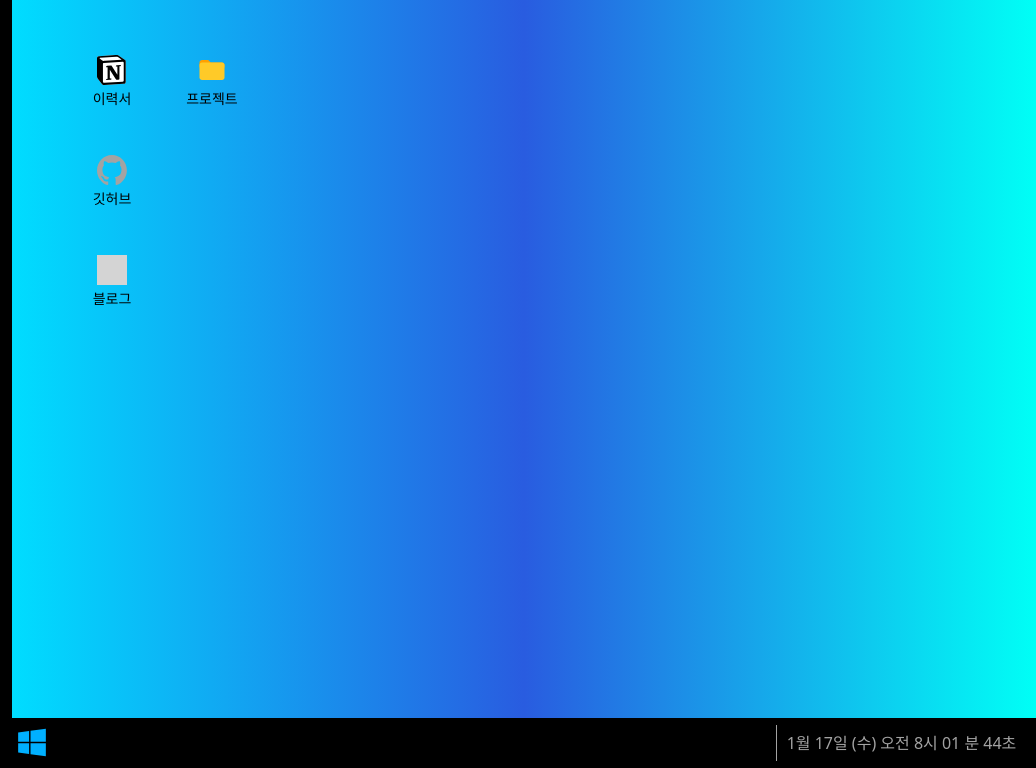
Test case: 아이콘과 관련된 테스트 › 링크가 아닌 아이콘을 더블클릭하면 창이 열린다.
This screenshot has width=1036, height=768.
Double-click the picture with alt text "프로젝트".
double_click(212, 70)  # box [197, 55, 227, 85]
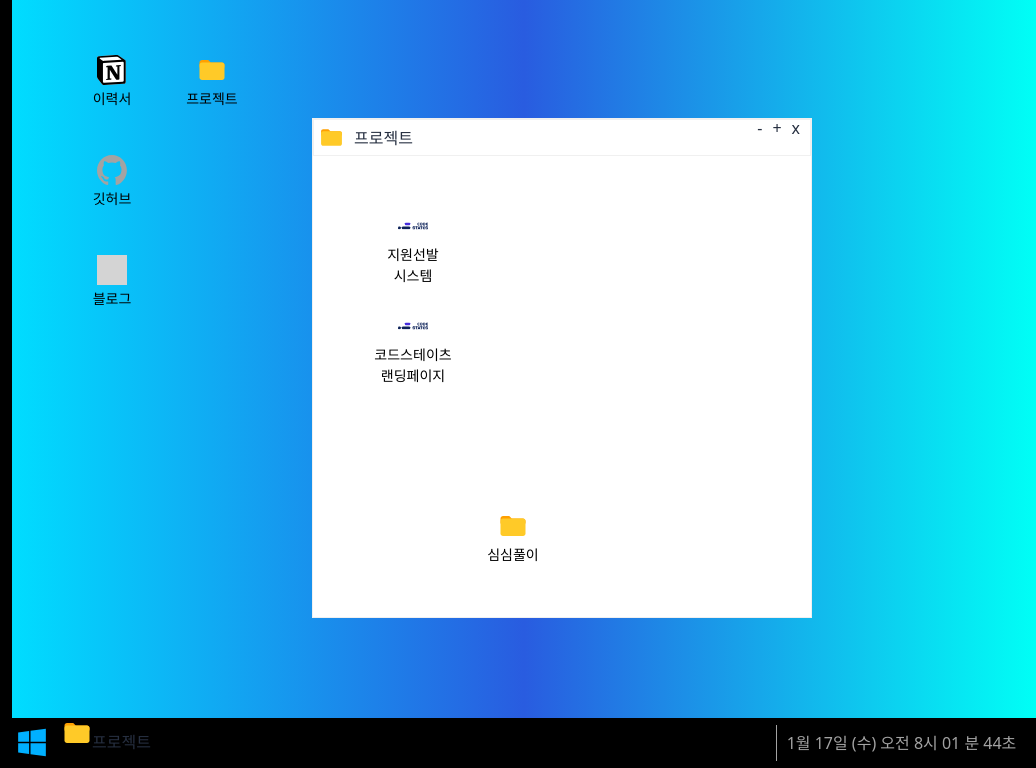
Expected: the number of pictures with alt text "프로젝트" is 3, [197, 55, 227, 85]; [319, 125, 344, 150]; [62, 718, 92, 748]
